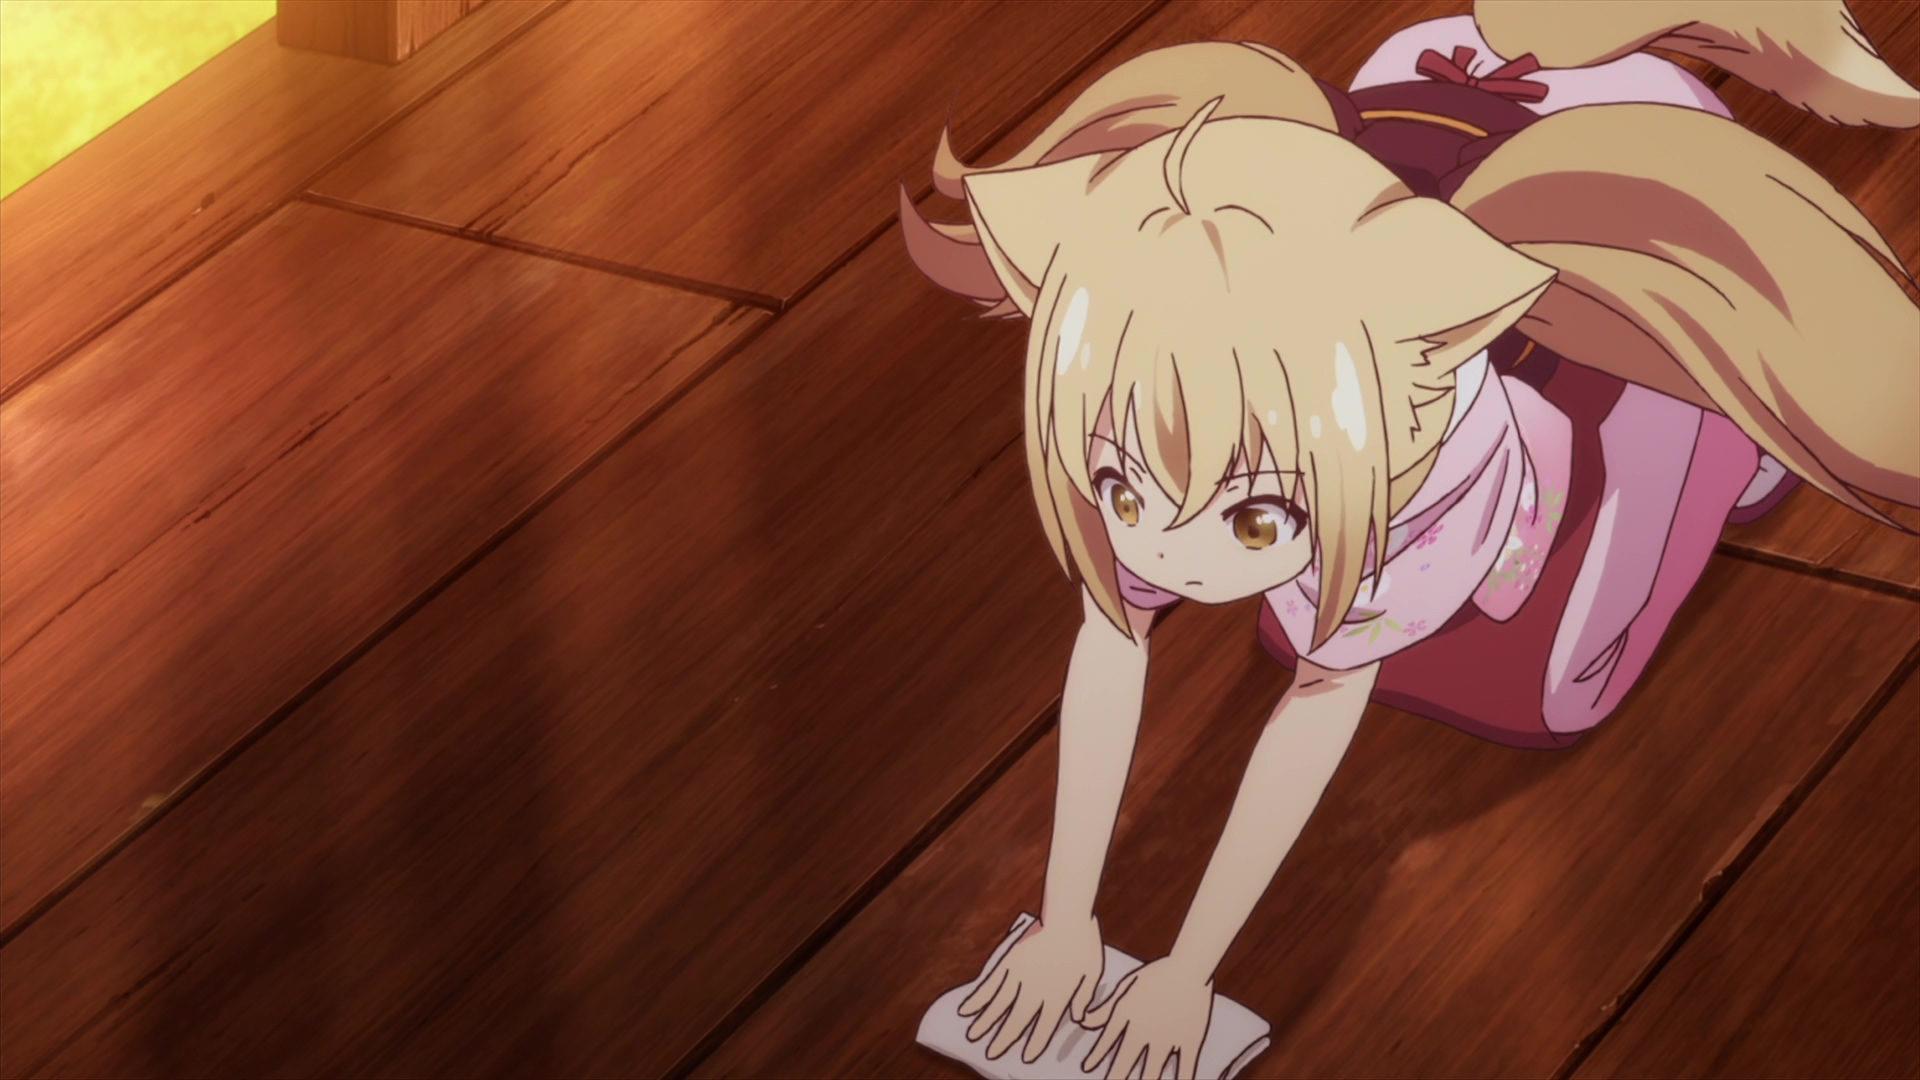柚: (899, 1, 1920, 1080)
